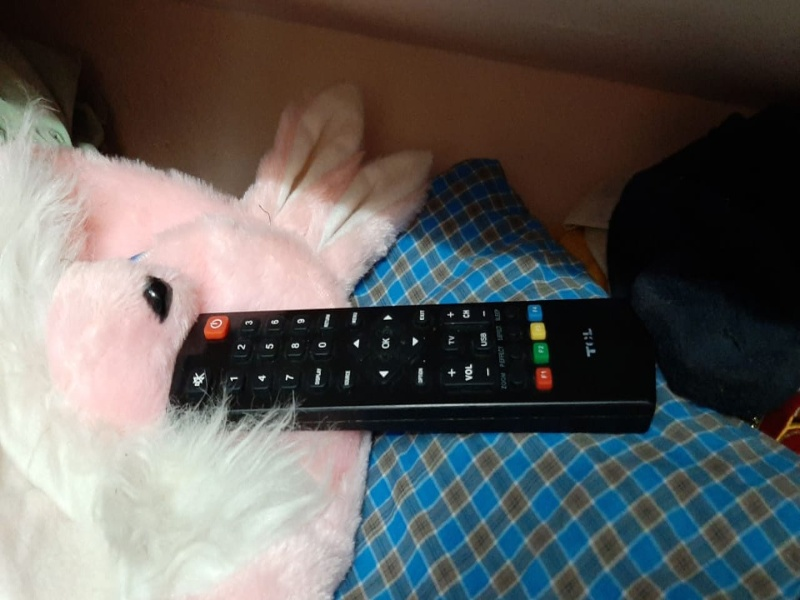remote: (167, 285, 666, 445)
